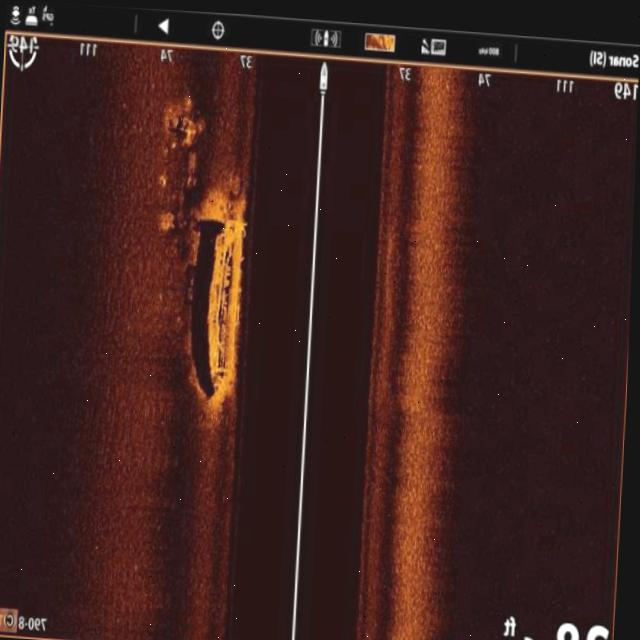shipwreck: (183, 170, 255, 405)
